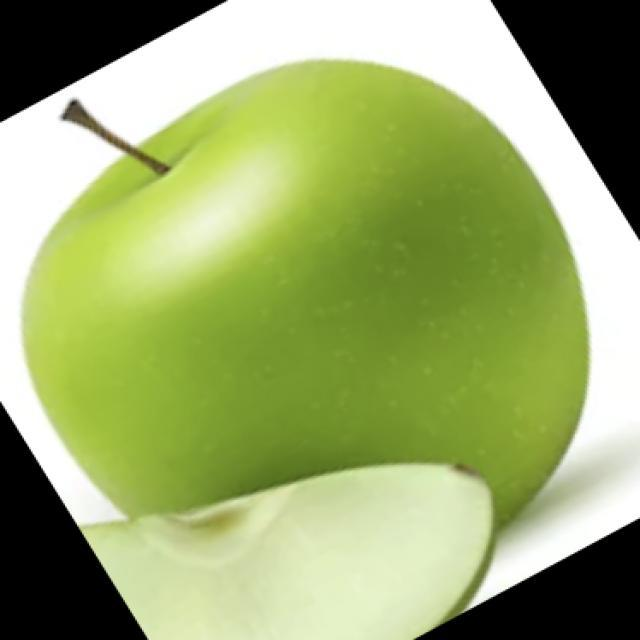Fresh Apple: (66, 76, 596, 522)
